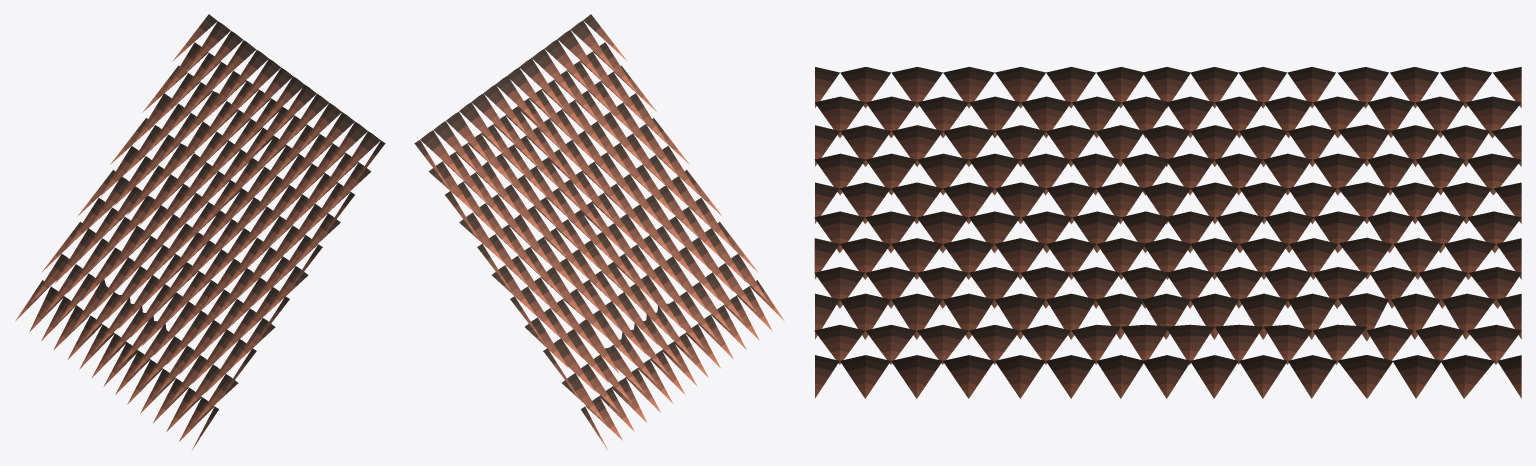
Rendered from Square_Roof_Straight_LOD0.fbx.
3 views of the same model, side by side, from view 1: azimuth 30°, elevation 25°; view 2: azimuth 150°, elevation 25°; view 3: azimuth 270°, elevation 25° (orthographic). The views are drawn at different scales.
Visible parts, largest first — view 1: polySurface5480; view 2: polySurface5480; view 3: polySurface5480.
Part boxes in pixels (x1,y1,x2,y2): polySurface5480: (15,14,385,449); polySurface5480: (414,14,784,449); polySurface5480: (814,66,1521,398).
Bounding box in the file's own units: 256 × 326 × 400.
